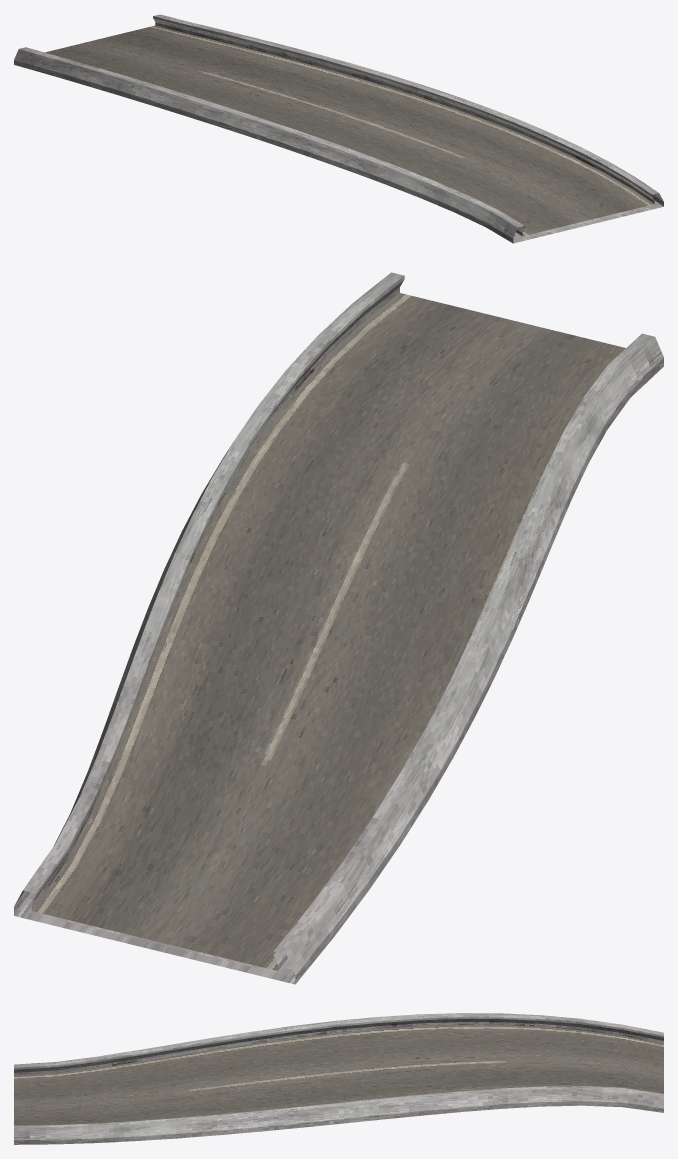
Rendered from road-Chicane-Flat-BiSlopeDown-Down1-Left1-Size4.glb.
3 views of the same model, one above another, from view 1: azimuth 30°, elevation 25°; view 2: azimuth 150°, elevation 25°; view 3: azimuth 270°, elevation 25° (orthographic). The views are drawn at different scales.
Parts seen in each view (by area): view 1: road-Chicane-Flat-BiSlopeDown-Down1-Left1-Size4; view 2: road-Chicane-Flat-BiSlopeDown-Down1-Left1-Size4; view 3: road-Chicane-Flat-BiSlopeDown-Down1-Left1-Size4.
Part boxes in pixels (x1,y1,x2,y2): road-Chicane-Flat-BiSlopeDown-Down1-Left1-Size4: [14, 14, 663, 243]; road-Chicane-Flat-BiSlopeDown-Down1-Left1-Size4: [14, 272, 663, 984]; road-Chicane-Flat-BiSlopeDown-Down1-Left1-Size4: [14, 1013, 663, 1144].
Size of the model in its own units: 2 by 0.3715 by 4.
2 materials, 2 textured.
